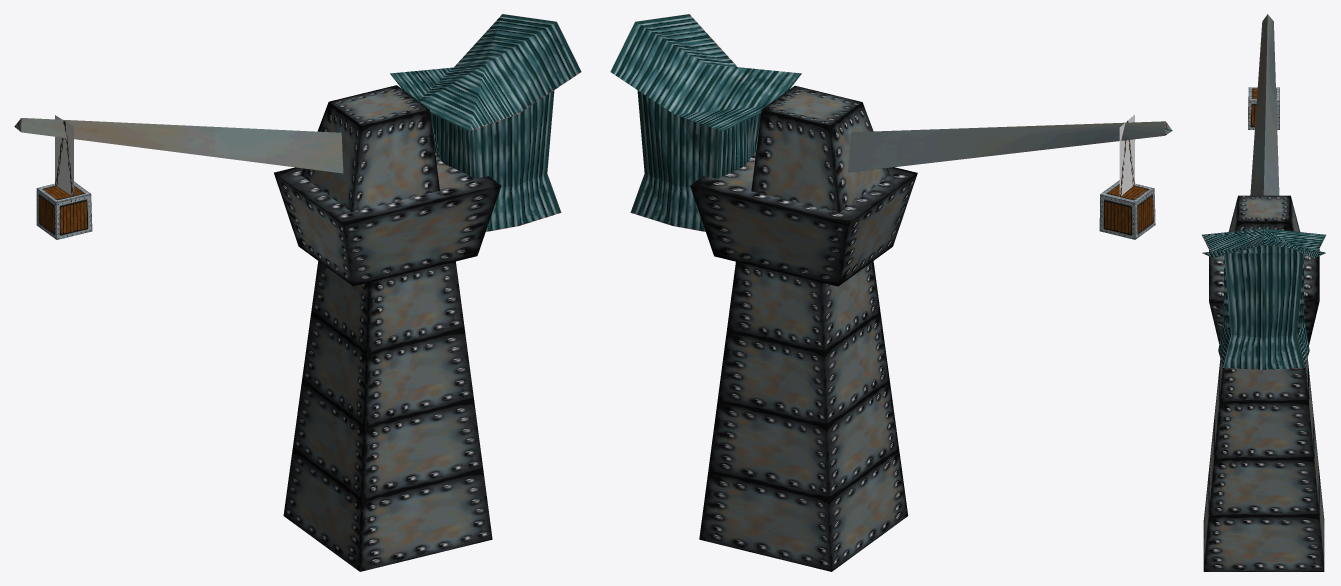
File: Kran_758.glb
The picture shows the model from 3 angles, left to right: view 1: azimuth 30°, elevation 25°; view 2: azimuth 150°, elevation 25°; view 3: azimuth 270°, elevation 25°; orthographic projection. The views are drawn at different scales.
Visible parts, largest first — view 1: pPlaneShape5, pPlaneShape7, pPlaneShape22, pPlaneShape9, pCylinderShape27, pPlaneShape18, pPlaneShape24, pPlaneShape11, pPlaneShape12, pPlaneShape26, pPlaneShape27, pPlaneShape21 (+3 smaller); view 2: pPlaneShape4, pPlaneShape7, pPlaneShape22, pPlaneShape8, pCylinderShape27, pPlaneShape19, pPlaneShape23, pPlaneShape11, pPlaneShape12, pPlaneShape26, pPlaneShape27, pPlaneShape21 (+3 smaller); view 3: pPlaneShape6, pPlaneShape20, pCylinderShape27, pPlaneShape22, pPlaneShape27, pPlaneShape12, pPlaneShape5, pPlaneShape4, pPlaneShape10, pPlaneShape18, pPlaneShape19, pPlaneShape25 (+3 smaller).
Boxes of the visible parts, x1=… form: pPlaneShape5: x1=360, y1=261, x2=492, y2=571; pPlaneShape7: x1=283, y1=261, x2=369, y2=571; pPlaneShape22: x1=390, y1=14, x2=581, y2=131; pPlaneShape9: x1=344, y1=185, x2=501, y2=286; pCylinderShape27: x1=14, y1=118, x2=343, y2=173; pPlaneShape18: x1=472, y1=90, x2=561, y2=231; pPlaneShape24: x1=352, y1=109, x2=439, y2=212; pPlaneShape11: x1=274, y1=173, x2=352, y2=285; pPlaneShape12: x1=274, y1=153, x2=501, y2=223; pPlaneShape26: x1=301, y1=102, x2=361, y2=211; pPlaneShape27: x1=329, y1=85, x2=429, y2=125; pPlaneShape21: x1=422, y1=80, x2=474, y2=178; pPlaneShape4: x1=699, y1=261, x2=831, y2=571; pPlaneShape7: x1=822, y1=261, x2=908, y2=571; pPlaneShape22: x1=610, y1=14, x2=801, y2=131; pPlaneShape8: x1=690, y1=185, x2=847, y2=286; pCylinderShape27: x1=848, y1=121, x2=1172, y2=172; pPlaneShape19: x1=630, y1=90, x2=719, y2=231; pPlaneShape23: x1=751, y1=110, x2=839, y2=212; pPlaneShape11: x1=838, y1=173, x2=917, y2=286; pPlaneShape12: x1=690, y1=150, x2=917, y2=223; pPlaneShape26: x1=829, y1=102, x2=889, y2=212; pPlaneShape27: x1=761, y1=85, x2=862, y2=126; pPlaneShape21: x1=717, y1=110, x2=760, y2=178; pPlaneShape6: x1=1203, y1=367, x2=1324, y2=571; pPlaneShape20: x1=1223, y1=253, x2=1304, y2=369; pCylinderShape27: x1=1250, y1=14, x2=1279, y2=195; pPlaneShape22: x1=1202, y1=228, x2=1325, y2=257; pPlaneShape27: x1=1238, y1=195, x2=1290, y2=221; pPlaneShape12: x1=1209, y1=249, x2=1319, y2=301; pPlaneShape5: x1=1203, y1=359, x2=1222, y2=570; pPlaneShape4: x1=1305, y1=359, x2=1324, y2=568; pPlaneShape10: x1=1209, y1=301, x2=1319, y2=345; pPlaneShape18: x1=1218, y1=256, x2=1230, y2=366; pPlaneShape19: x1=1297, y1=256, x2=1309, y2=366; pPlaneShape25: x1=1236, y1=221, x2=1304, y2=281.
Size of the model in its own units: 2.08 by 1.84 by 0.5319.
26 materials, 26 textured.
